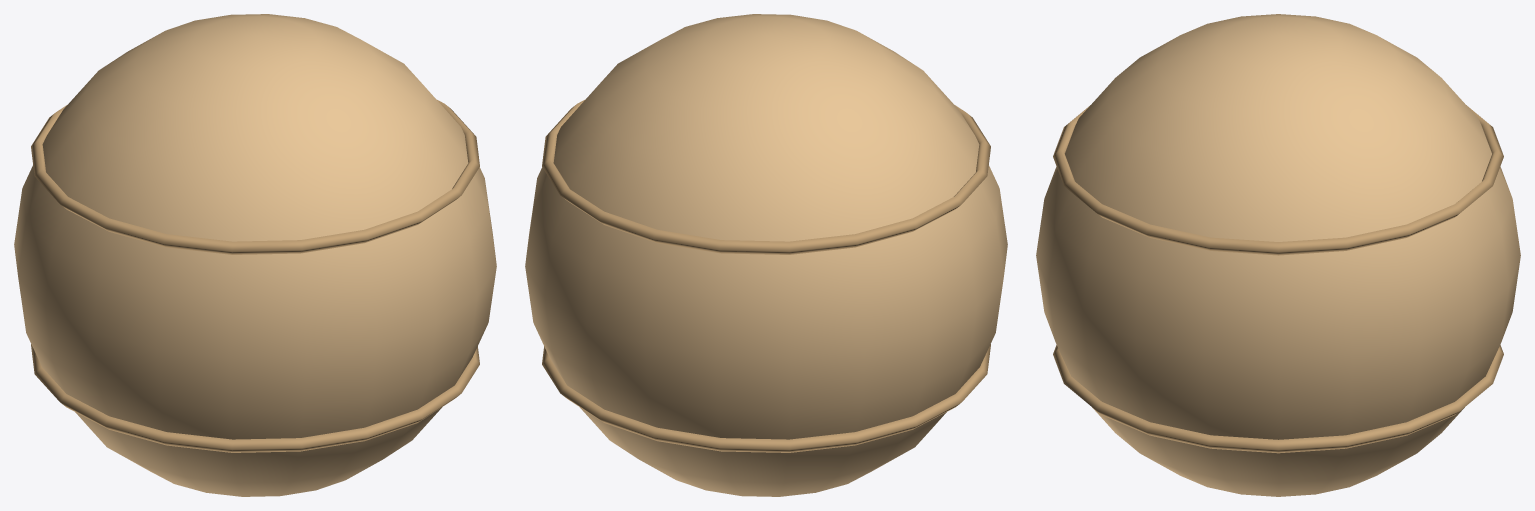
Rendered from BallMediumWood.fbx.
3 views of the same model, side by side, from view 1: azimuth 30°, elevation 25°; view 2: azimuth 150°, elevation 25°; view 3: azimuth 270°, elevation 25° (orthographic).
Parts seen in each view (by area): view 1: BallMediumWood; view 2: BallMediumWood; view 3: BallMediumWood.
Part boxes in pixels (x1,y1,x2,y2): BallMediumWood: (14,14,496,496); BallMediumWood: (525,14,1007,496); BallMediumWood: (1036,14,1520,496).
Size of the model in its own units: 2.62 by 2.62 by 2.62.
